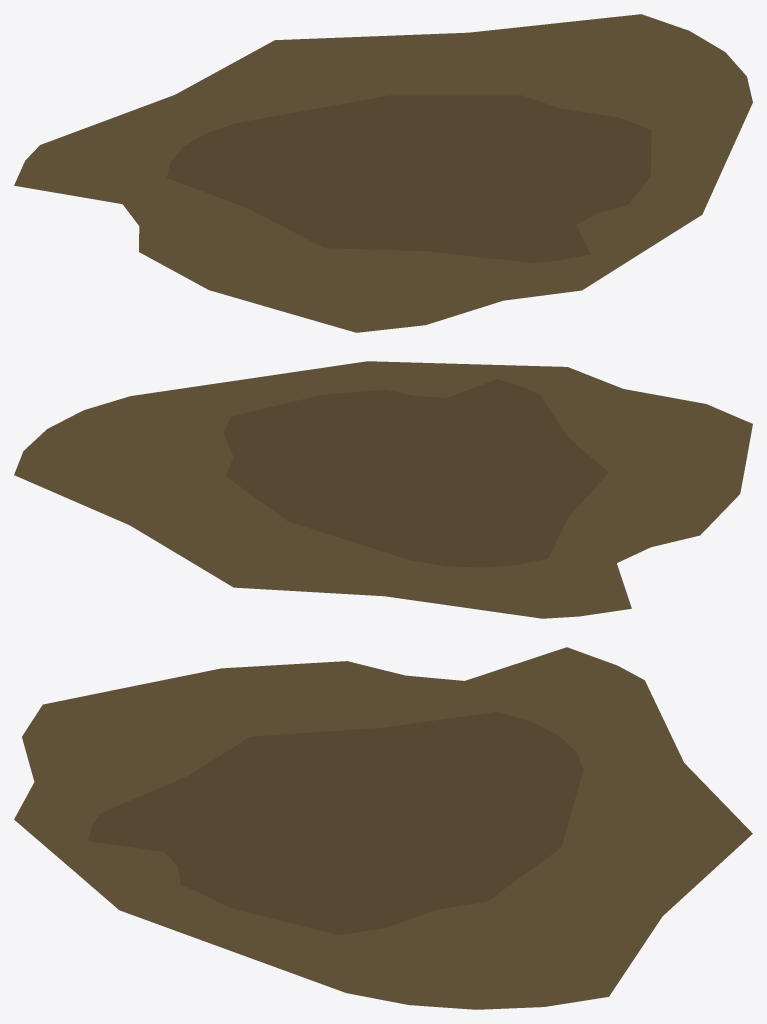
Rendered from CharcoDeLodo1.fbx.
3 renders of one model, top to bottom at view 1: azimuth 30°, elevation 25°; view 2: azimuth 150°, elevation 25°; view 3: azimuth 270°, elevation 25°, orthographic. The views are drawn at different scales.
Parts seen in each view (by area): view 1: Lodito:pDisc7; view 2: Lodito:pDisc7; view 3: Lodito:pDisc7.
Boxes of the visible parts, x1,y1,x2,y2 form: Lodito:pDisc7: (14,14,752,332); Lodito:pDisc7: (14,361,752,618); Lodito:pDisc7: (14,647,752,1009).
Size of the model in its own units: 3.27 by 0.00507 by 2.81.
